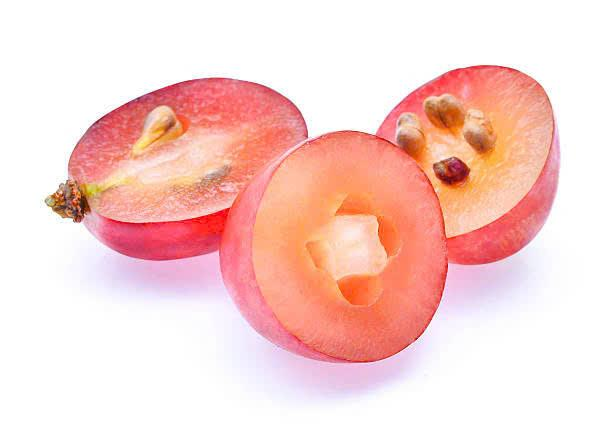grape: (212, 121, 457, 361), (382, 55, 564, 261), (40, 66, 233, 258)
